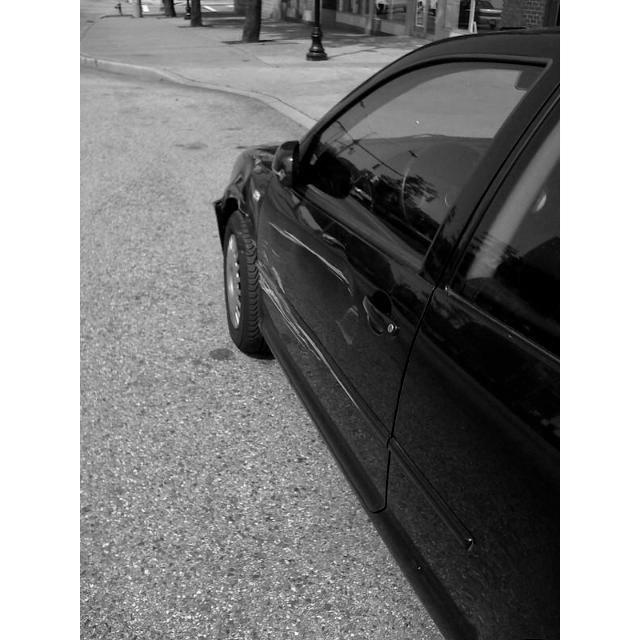doorouter-dent: (228, 169, 304, 348)
